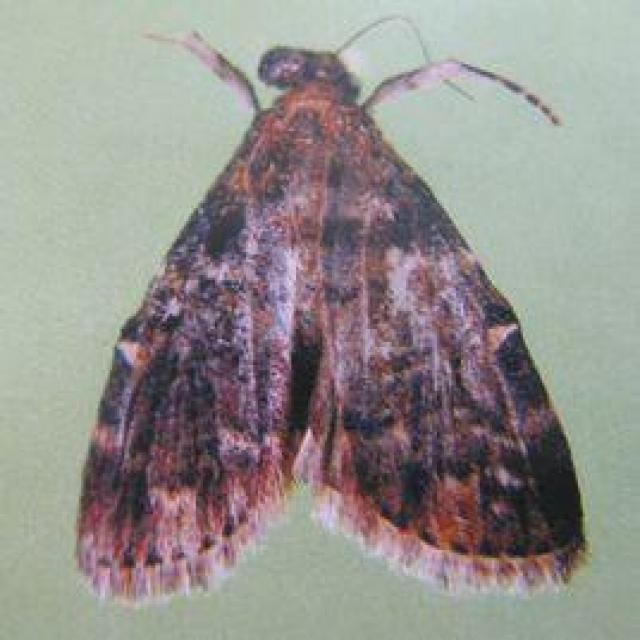BeetArmyWorm-Adult-: (61, 12, 606, 606)
